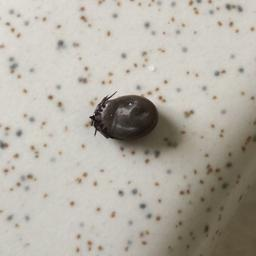Rhipicephalus sanguineus: (86, 92, 159, 140)
